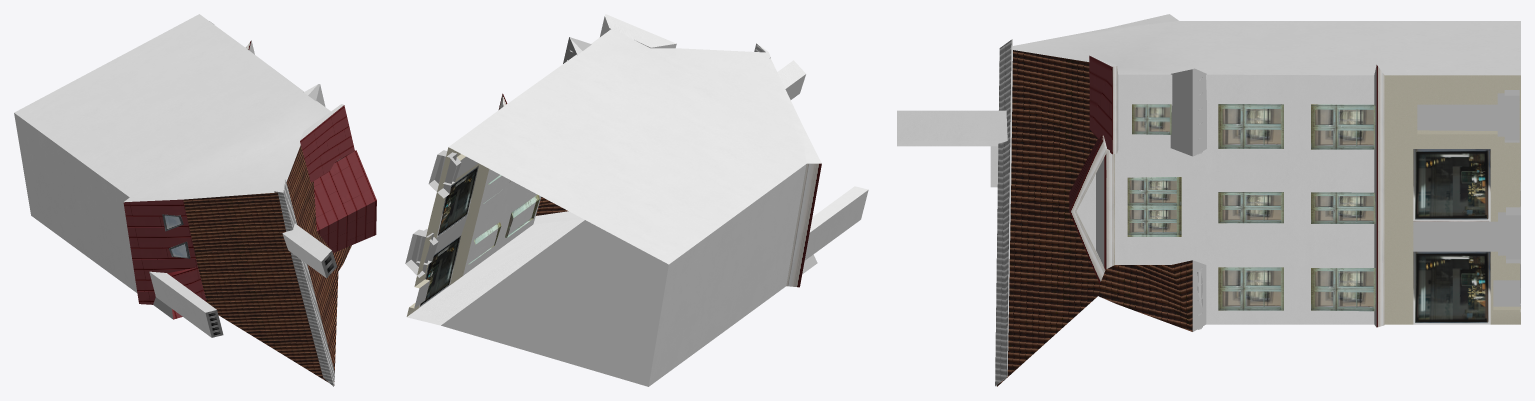
File: Kinga_5-origo.obj
The picture shows the model from 3 angles, left to right: view 1: azimuth 30°, elevation 25°; view 2: azimuth 150°, elevation 25°; view 3: azimuth 270°, elevation 25°; orthographic projection. The views are drawn at different scales.
Parts seen in each view (by area): view 1: Kinga_5; view 2: Kinga_5; view 3: Kinga_5.
Part boxes in pixels (box(x1,y1,x2,y2)): Kinga_5: box(14, 14, 376, 386); Kinga_5: box(405, 14, 868, 386); Kinga_5: box(897, 14, 1520, 386).
Size of the model in its own units: 14.12 by 13.5 by 21.48.
